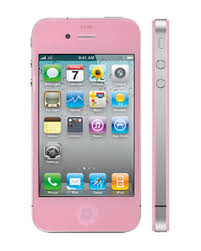iphone: (27, 13, 142, 239)
iphone4: (26, 13, 141, 239)
